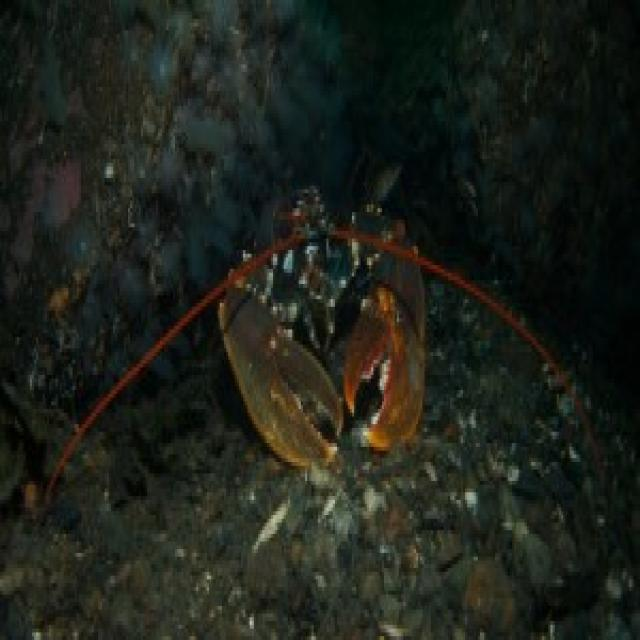lobsters: (132, 106, 616, 567)
